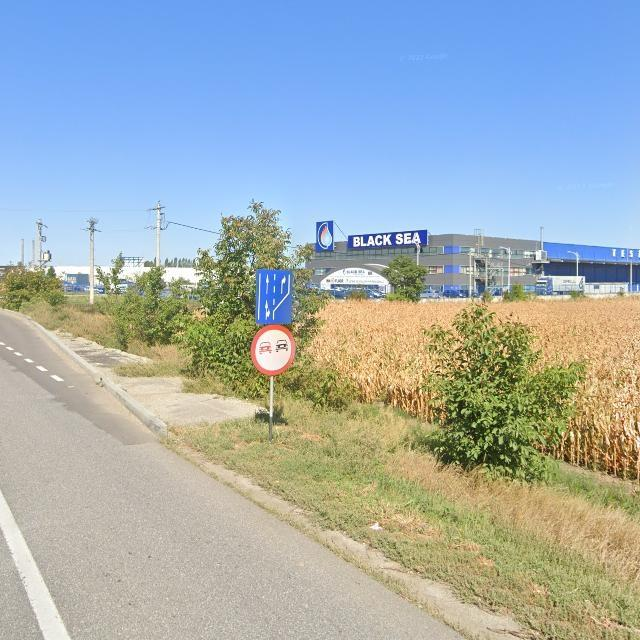forb_overtake: (251, 325, 296, 375)
